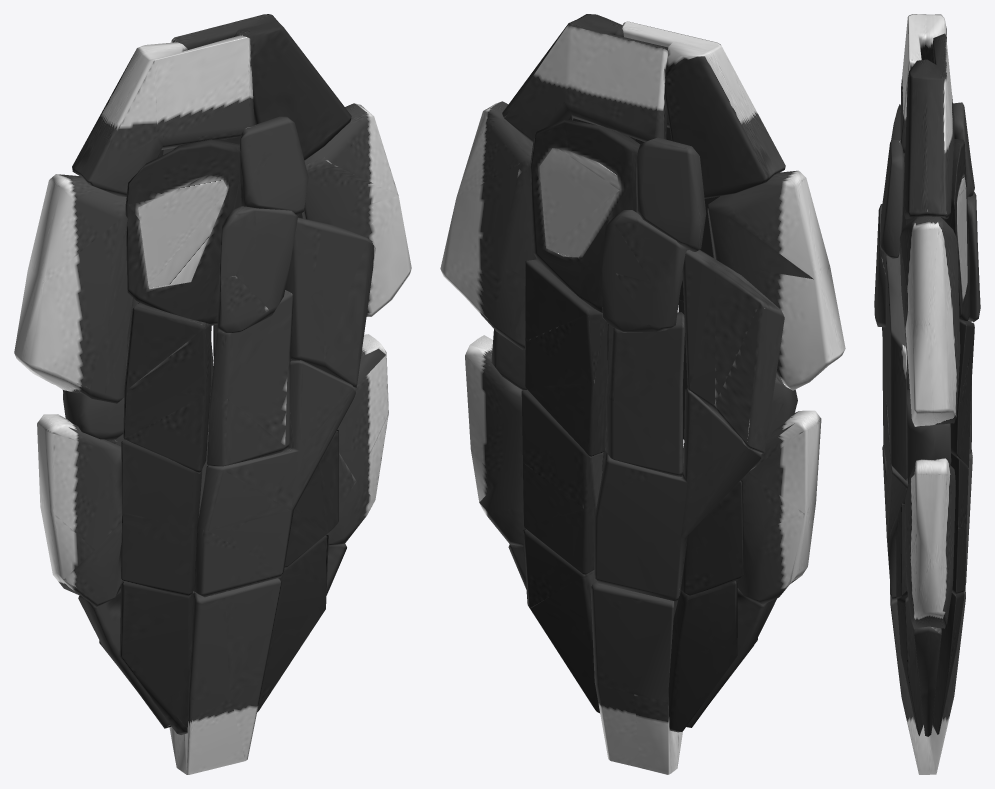
Rendered from brakk_shield.glb.
The picture shows the model from 3 angles, left to right: view 1: azimuth 30°, elevation 25°; view 2: azimuth 150°, elevation 25°; view 3: azimuth 270°, elevation 25°; orthographic projection. The views are drawn at different scales.
Bounding box in the file's own units: 0.532 × 0.95 × 0.1283.
Materials: 1 (1 with a texture image).
